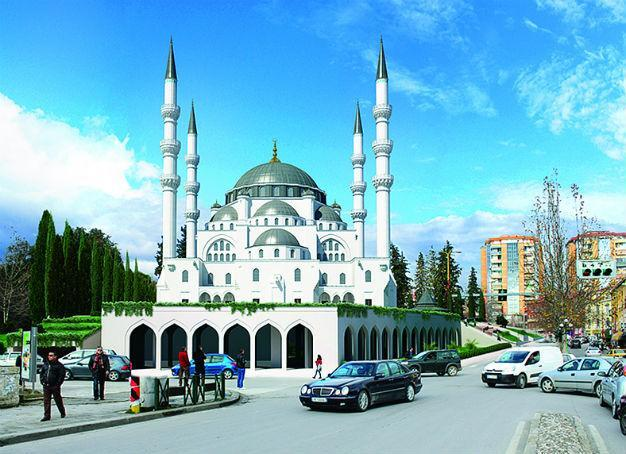Mosque: (101, 32, 470, 372)
